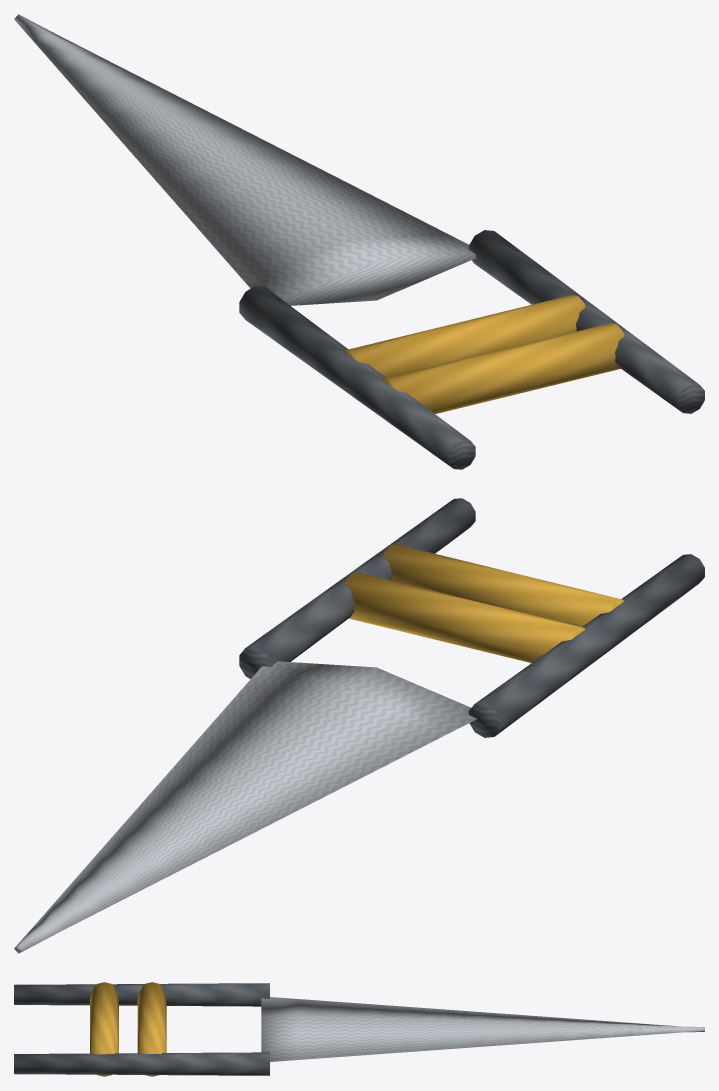
File: kalari_kattara.glb
3 views of the same model, one above another, from view 1: azimuth 30°, elevation 25°; view 2: azimuth 150°, elevation 25°; view 3: azimuth 270°, elevation 25° (orthographic). The views are drawn at different scales.
Visible parts, largest first — view 1: Kalari_Kattara_Dagger; view 2: Kalari_Kattara_Dagger; view 3: Kalari_Kattara_Dagger.
Boxes of the visible parts, x1,y1,x2,y2 form: Kalari_Kattara_Dagger: (14,14,704,469); Kalari_Kattara_Dagger: (14,498,704,953); Kalari_Kattara_Dagger: (14,982,704,1076).
Size of the model in its own units: 0.1093 by 0.017 by 0.405.
3 materials, 3 textured.
